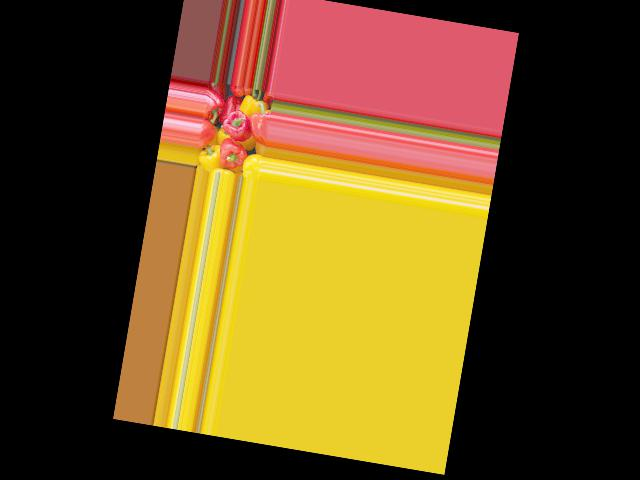bell_pepper: (198, 145, 224, 173)
